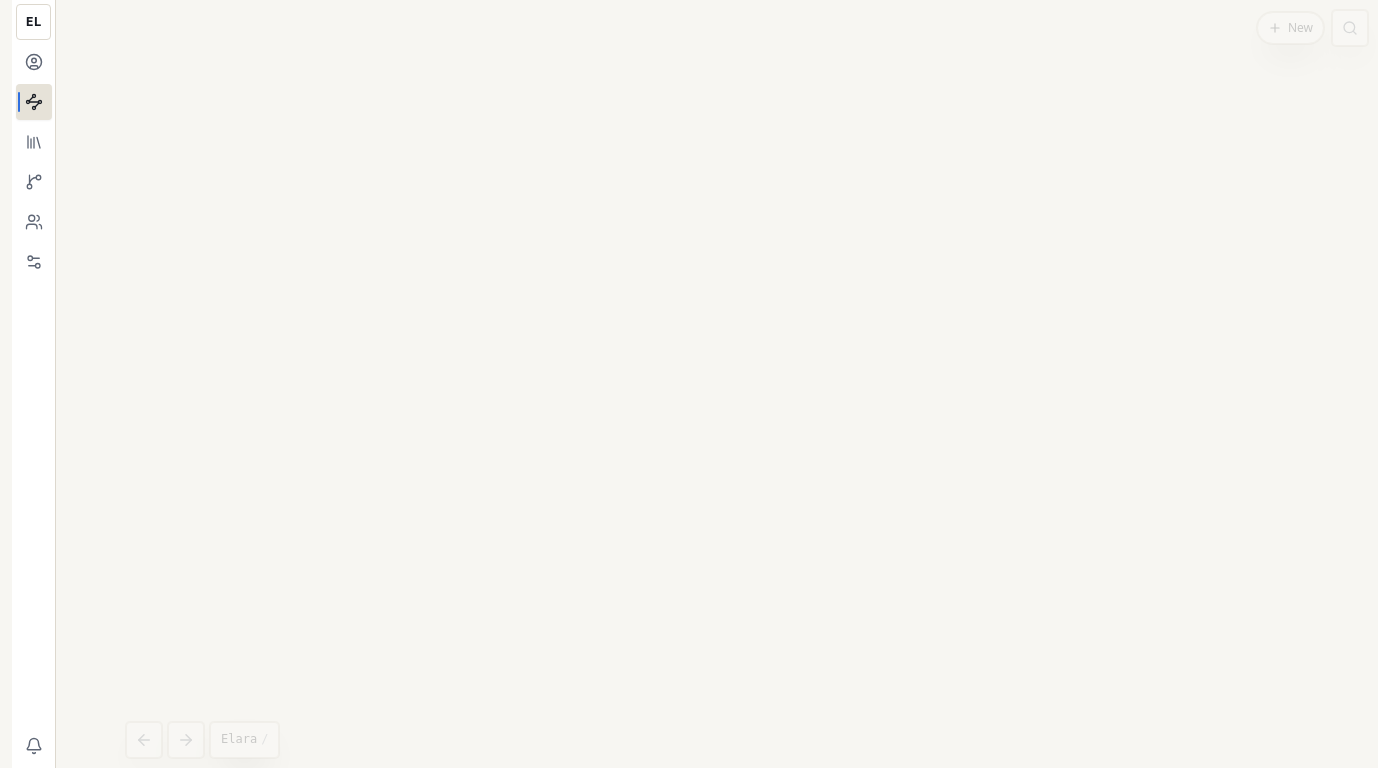
Test: AppShell › toggles the sidebar between collapsed and expanded when clicking the CH logo button
// Click CH logo to expand
Click the button with aria-label "Elara logo, toggle sidebar": (34, 22) [16,4,51,40]
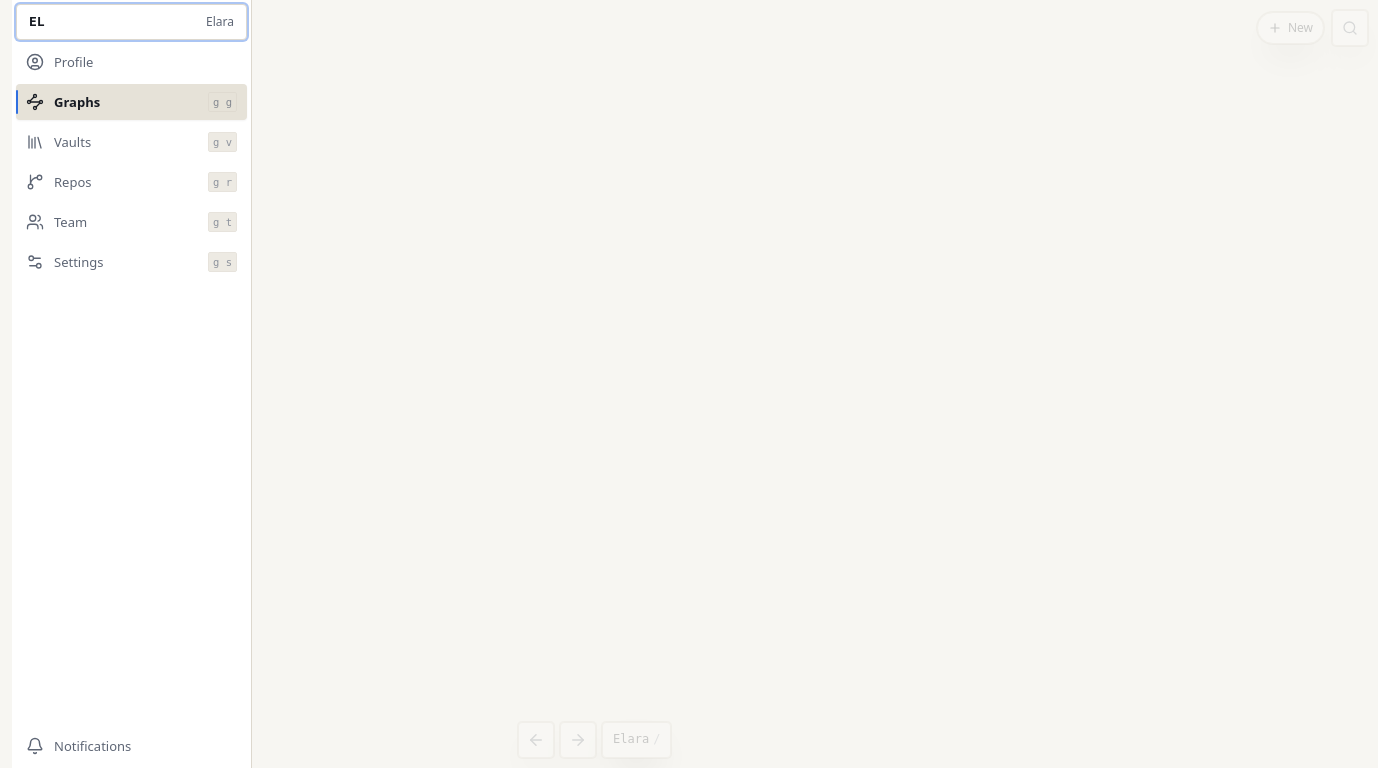
Result: the button with aria-label "Elara logo, toggle sidebar" is expanded
Result: the text "Graphs" is shown at [54,93,100,111]
Result: the text "Vaults" is shown at [54,133,91,151]
// Click again to collapse
Click the button "EL Elara": (132, 22) [16,4,247,40]
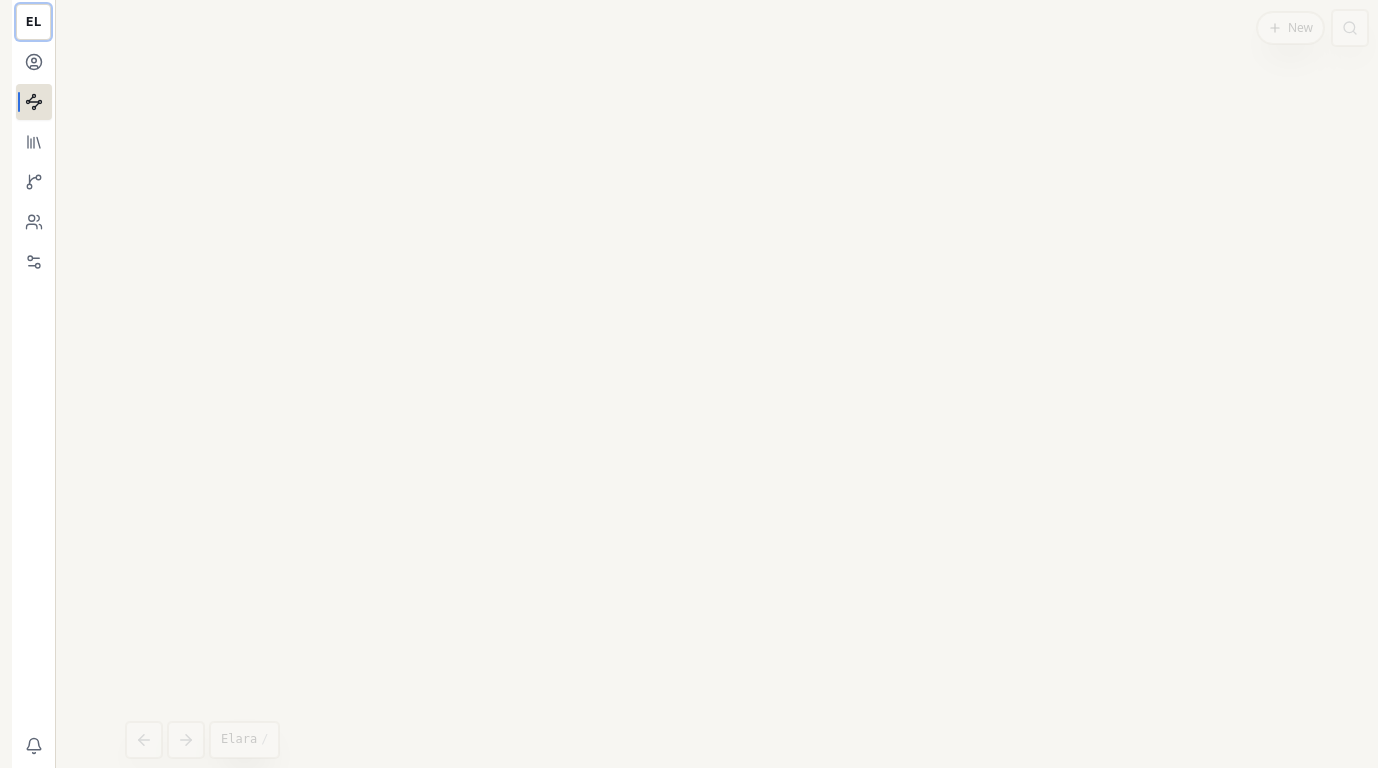
Result: the button "EL" is collapsed at [16,4,51,40]
